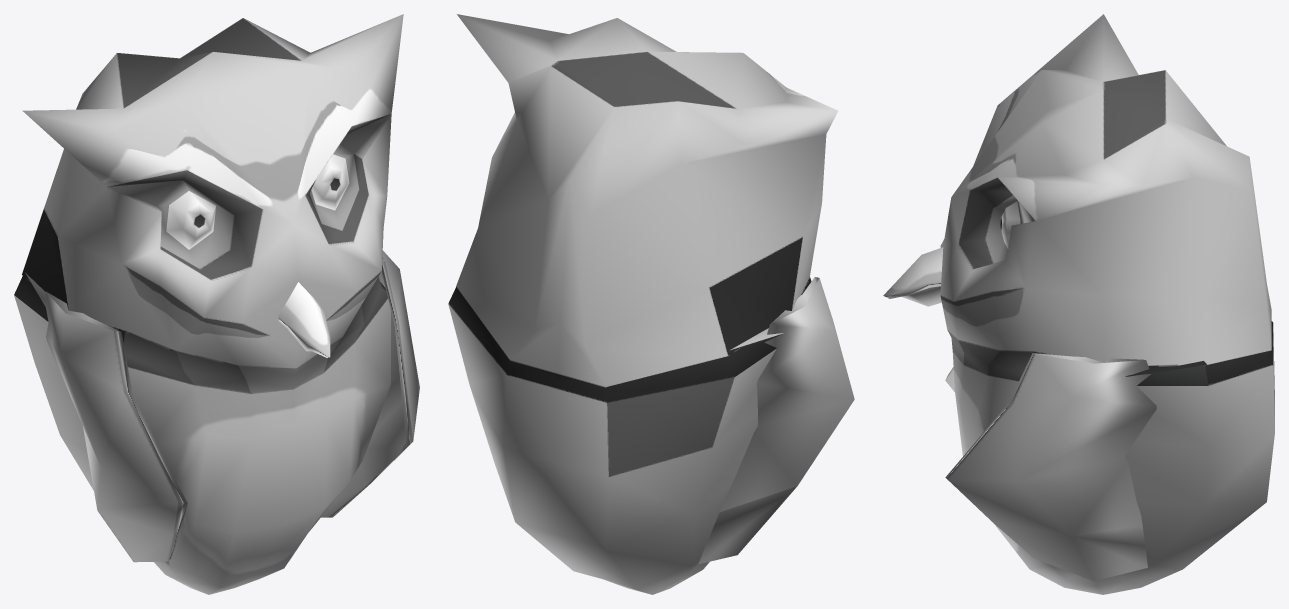
File: owl.FBX
3 views of the same model, side by side, from view 1: azimuth 30°, elevation 25°; view 2: azimuth 150°, elevation 25°; view 3: azimuth 270°, elevation 25° (orthographic). The views are drawn at different scales.
Parts seen in each view (by area): view 1: OwlInactive; view 2: OwlInactive; view 3: OwlInactive.
Part boxes in pixels (box(x1,y1,x2,y2)): OwlInactive: box(14, 14, 419, 594); OwlInactive: box(448, 14, 854, 594); OwlInactive: box(883, 14, 1274, 594).
Size of the model in its own units: 39.32 by 52.56 by 37.25.
Materials: 1 (1 with a texture image).
